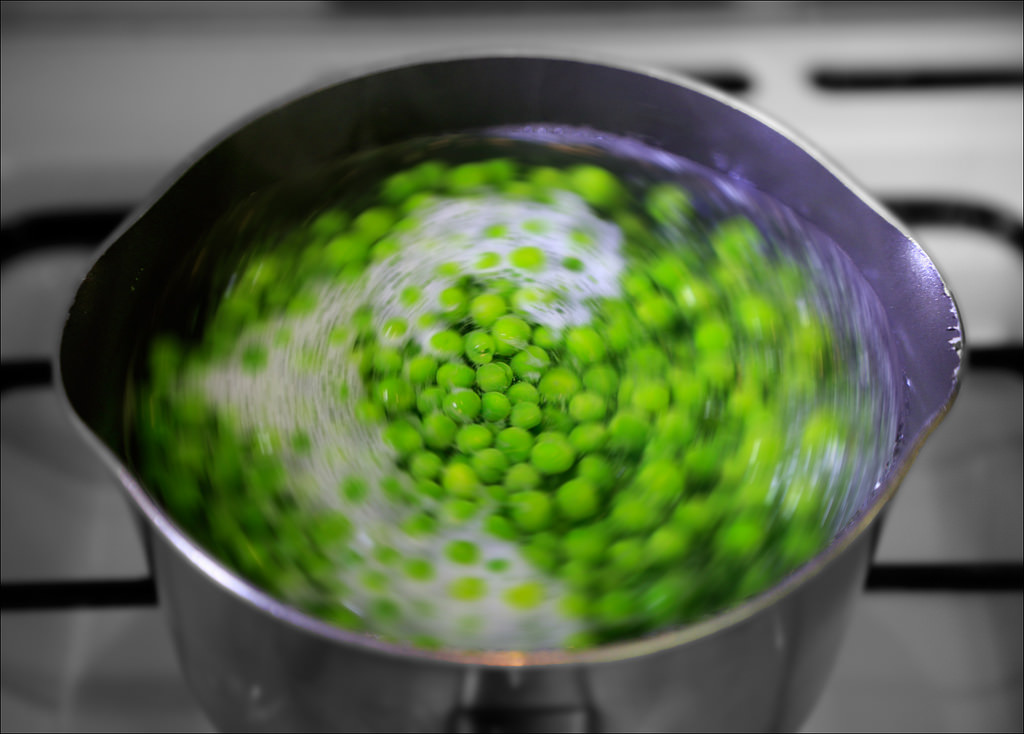boiled peas: (209, 165, 841, 604)
